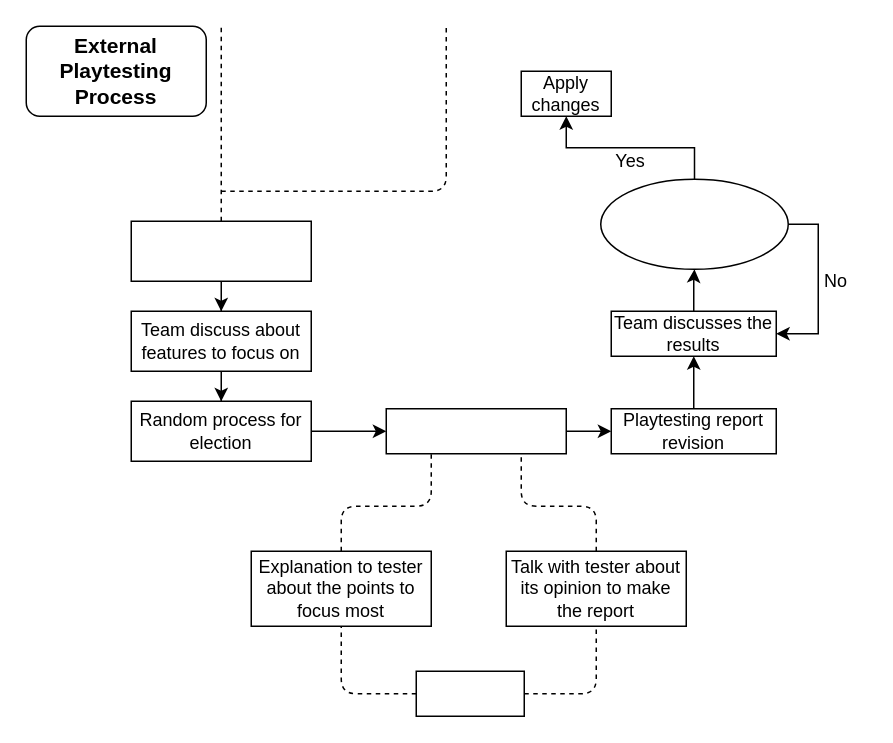
This 893x743 diagram has some shape labels left out. The shapes that lost their labels are listed below. From the top down, each one's box as (x1, y1, x2, y2) in pixels, then its label:
(599, 178, 788, 269): The whole team agrees the changes proposed?
(130, 220, 311, 281): Team members present testers
(385, 407, 566, 454): Playtesting Session
(415, 670, 524, 716): Playtesting
